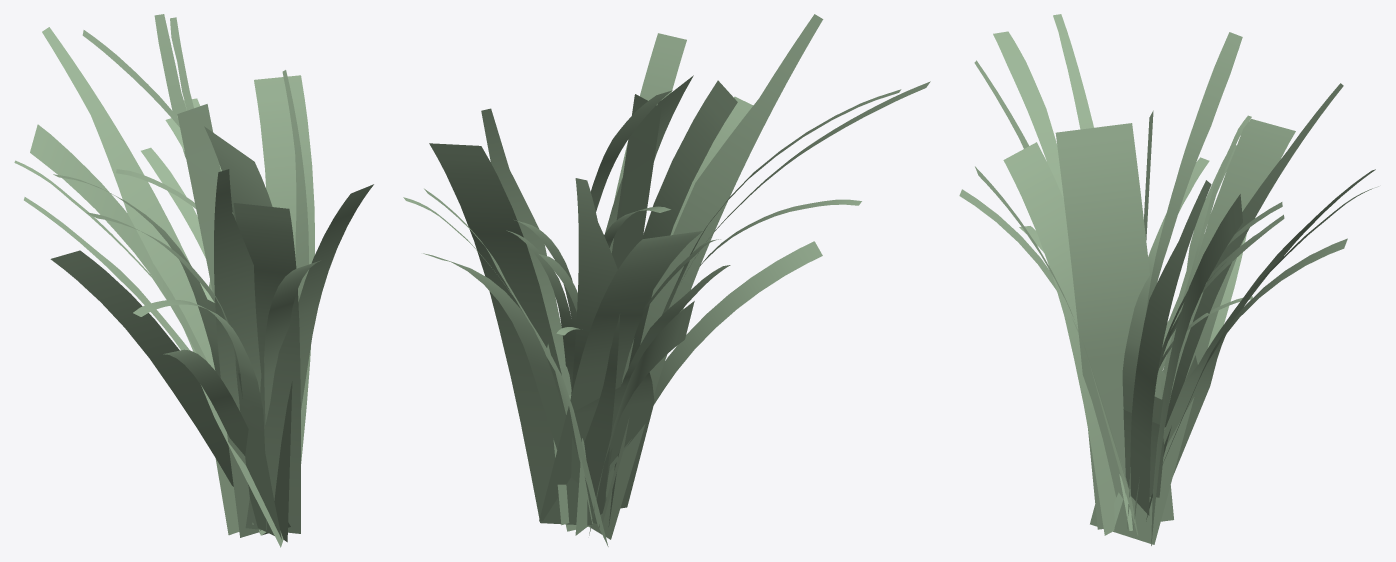
File: SM_ocean_eelGrass_02.fbx
3 views of the same model, side by side, from view 1: azimuth 30°, elevation 25°; view 2: azimuth 150°, elevation 25°; view 3: azimuth 270°, elevation 25° (orthographic). The views are drawn at different scales.
Visible parts, largest first — view 1: SM_ocean_eelGrass_02_LOD0; view 2: SM_ocean_eelGrass_02_LOD0; view 3: SM_ocean_eelGrass_02_LOD0.
Boxes of the visible parts, bbox=[...] form: SM_ocean_eelGrass_02_LOD0: bbox=[14, 14, 373, 547]; SM_ocean_eelGrass_02_LOD0: bbox=[403, 14, 930, 546]; SM_ocean_eelGrass_02_LOD0: bbox=[959, 14, 1378, 545].
Size of what is drawn, in the model's own units: 129 by 149 by 175.
